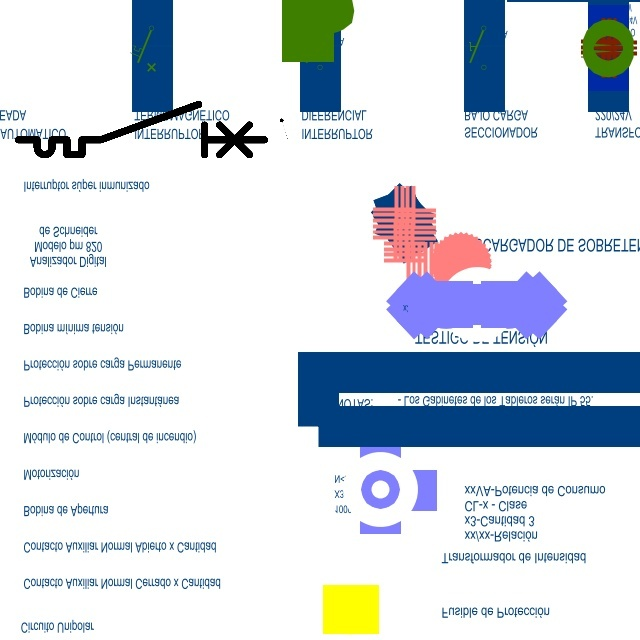interruptor_termomagnetico: (12, 98, 271, 161)
